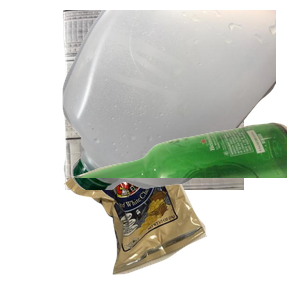glass: (60, 120, 300, 300)
paper: (60, 10, 300, 190)
plastic: (60, 10, 300, 190)
trash: (61, 127, 260, 300)
